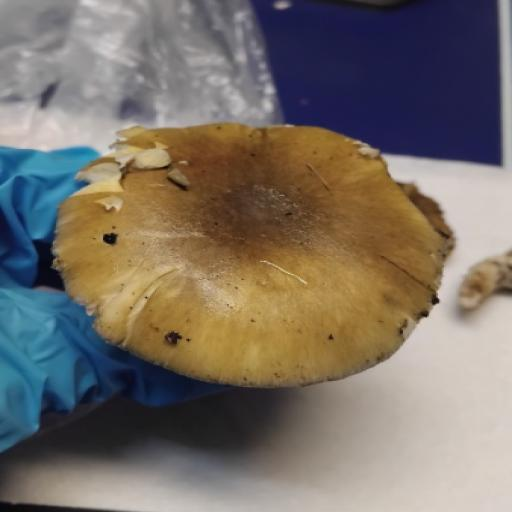Death Cap: (39, 115, 456, 391)
